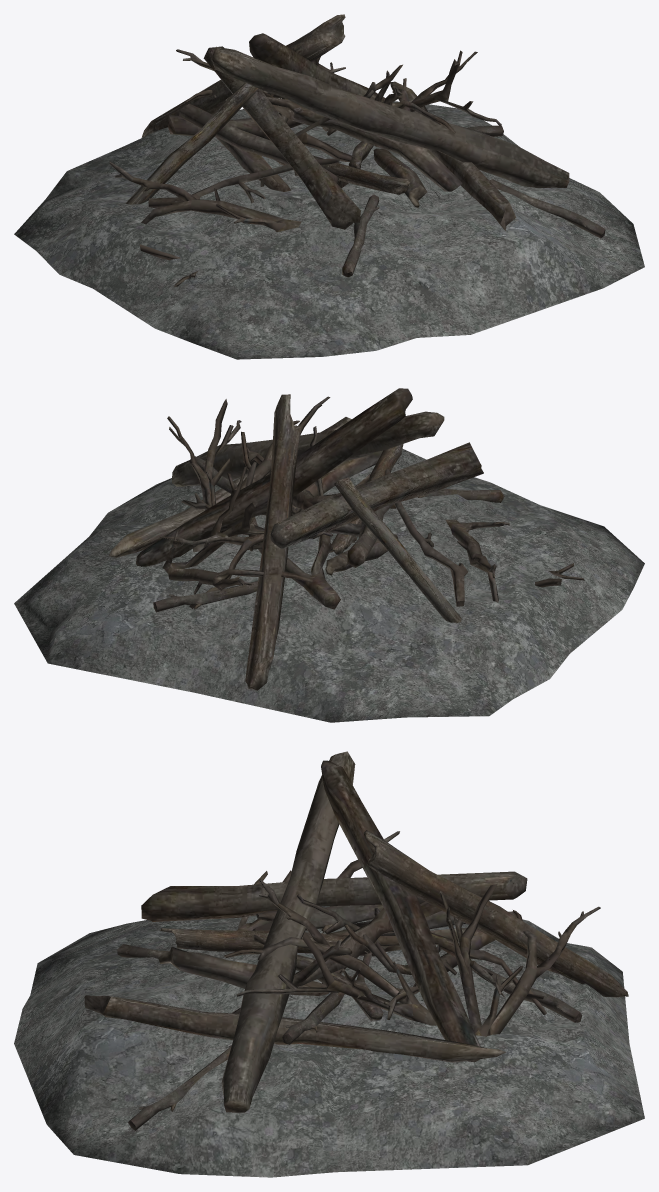
The model's file is AEG003_362-transformed.glb.
3 views of the same model, one above another, from view 1: azimuth 30°, elevation 25°; view 2: azimuth 150°, elevation 25°; view 3: azimuth 270°, elevation 25° (orthographic). The views are drawn at different scales.
Parts seen in each view (by area): view 1: default; view 2: default; view 3: default.
Boxes of the visible parts, <box> form: default: <box>14,14,644,359</box>; default: <box>14,388,644,722</box>; default: <box>14,751,644,1177</box>.
Size of the model in its own units: 1.4 by 0.6454 by 1.39.
Materials: 2 (2 with a texture image).
